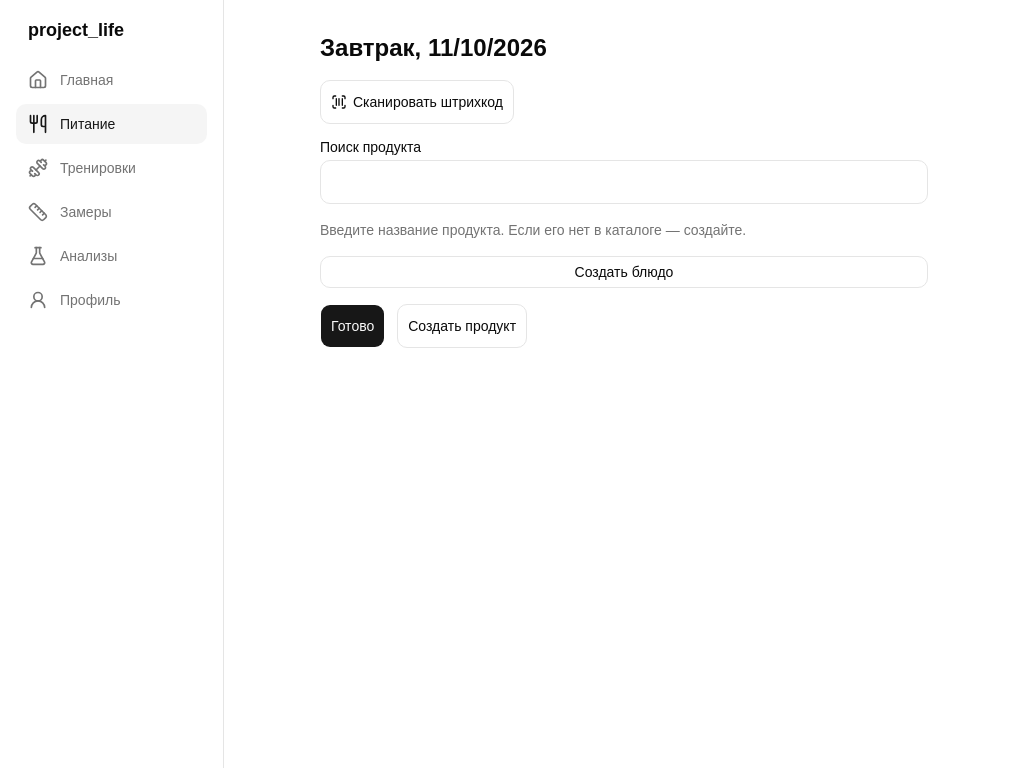
Test: добавление в приём пищи › каталог приходит страницами: остальное — по «Показать ещё»
Type "е" into the search field labelled "Поиск продукта". click: (624, 182)
box: [320,160,928,204]
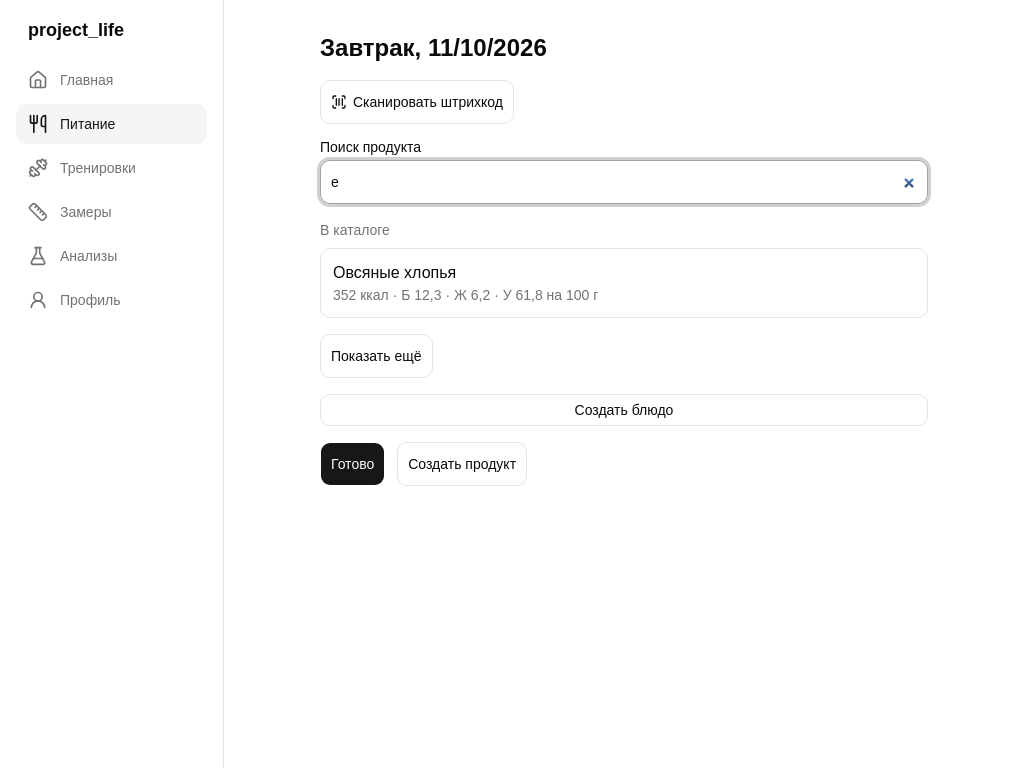
Click the button "Показать ещё". click: (376, 356)
box: [320,334,432,378]
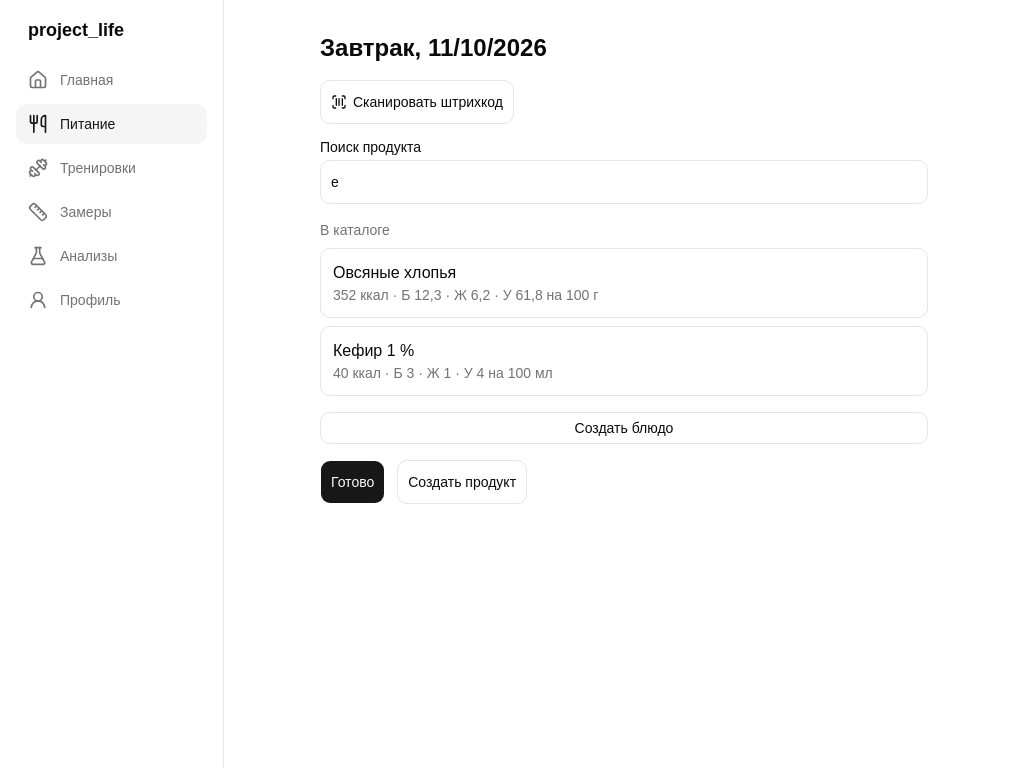
Expected: the button "Показать ещё" is gone
